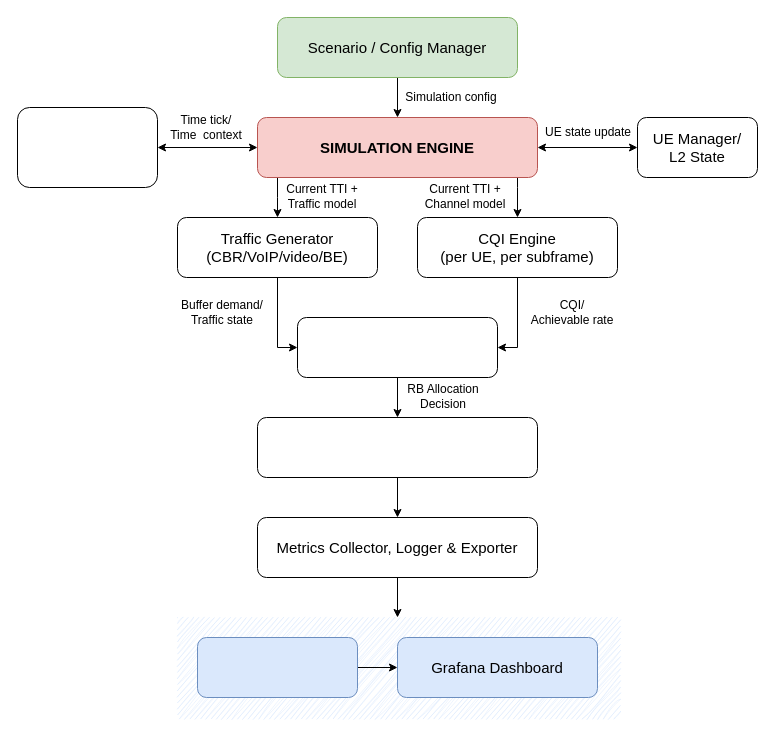
Some shapes in this 775 by 735 pixel diagram are drawn without their labels. The box of each missing label's shape, as (x1, y1, x2, y2) in pixels:
LTE Frame/ Subframe Time Manager: (16, 106, 158, 188)
Prometheus: (196, 636, 358, 698)
Resource Block Allocation Grid: (256, 416, 538, 478)
Scheduler Module (Pluggable): (296, 316, 498, 378)
